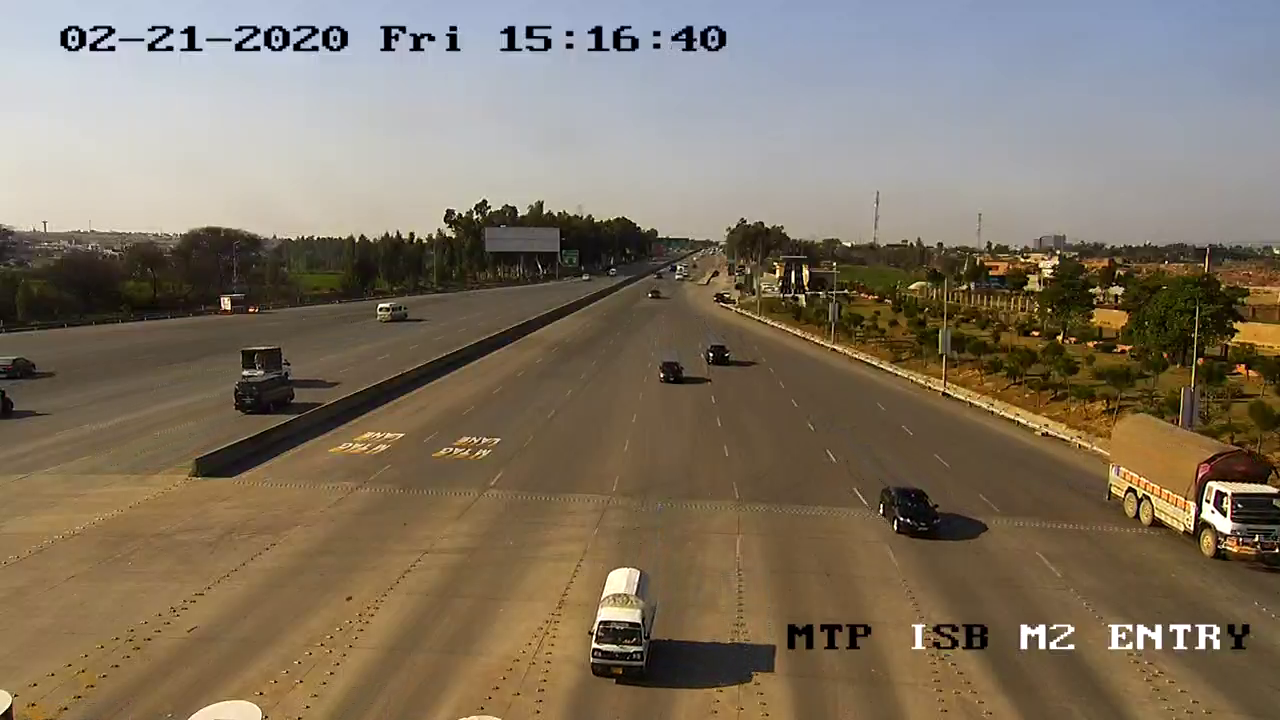f1: (580, 564, 666, 684), (873, 479, 951, 545)
f5: (1104, 409, 1280, 577)
